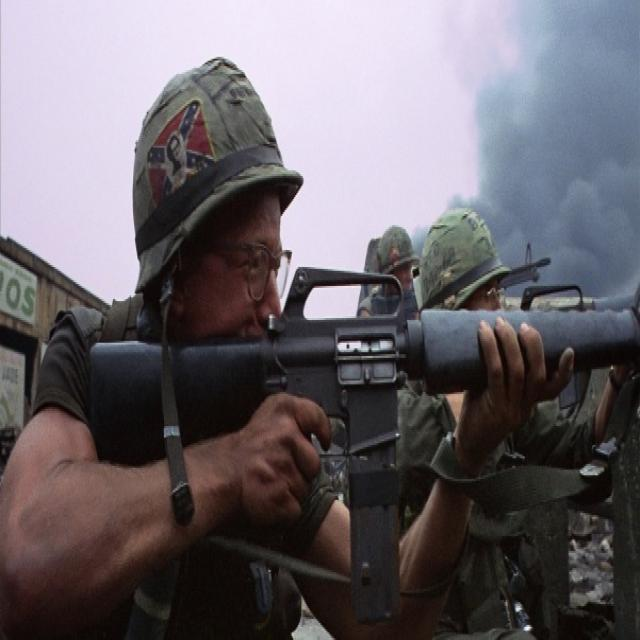rifle: (84, 249, 640, 640)
